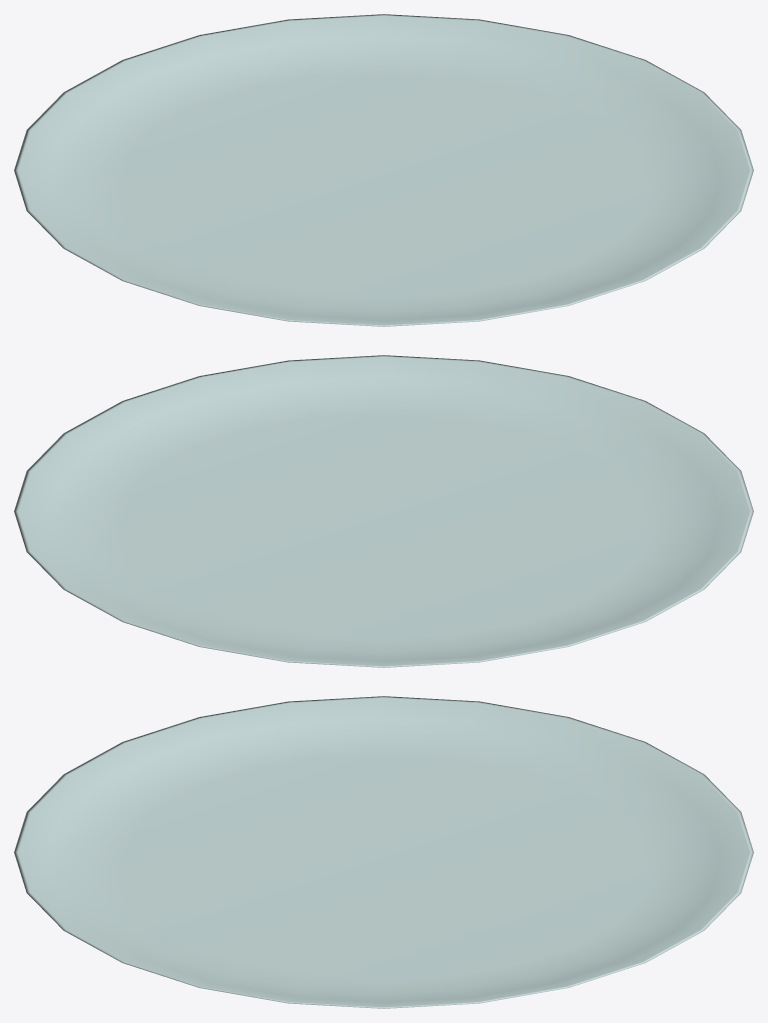
The model's file is plate_1.fbx.
3 renders of one model, top to bottom at view 1: azimuth 30°, elevation 25°; view 2: azimuth 150°, elevation 25°; view 3: azimuth 270°, elevation 25°, orthographic.
Parts seen in each view (by area): view 1: cake_crem.001; view 2: cake_crem.001; view 3: cake_crem.001.
Boxes of the visible parts, x1=… form: cake_crem.001: x1=14, y1=14, x2=753, y2=326; cake_crem.001: x1=14, y1=355, x2=753, y2=667; cake_crem.001: x1=14, y1=696, x2=753, y2=1008.
Bounding box in the file's own units: 28.7 × 0.8017 × 28.7.
